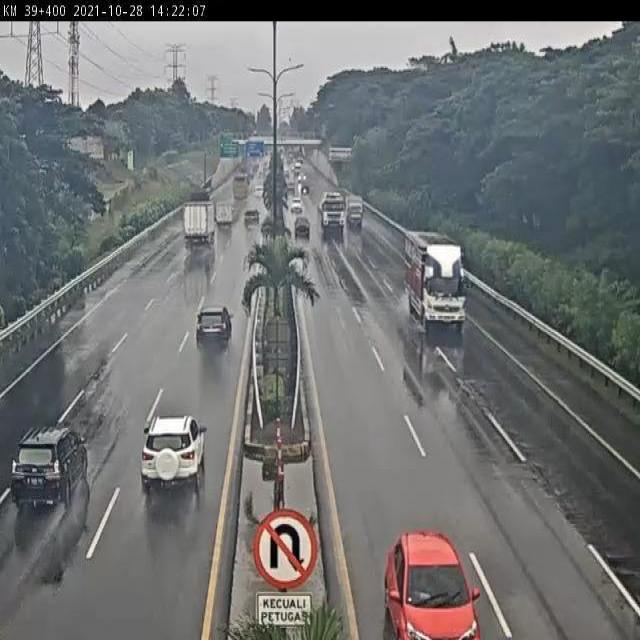car: (10, 423, 91, 513), (140, 412, 210, 499), (193, 305, 236, 348), (292, 212, 311, 237), (241, 208, 261, 228)
truck-l-: (406, 231, 464, 328), (182, 200, 214, 249)
truck-s-: (214, 199, 236, 229)
truck-xl-: (314, 192, 345, 233)
